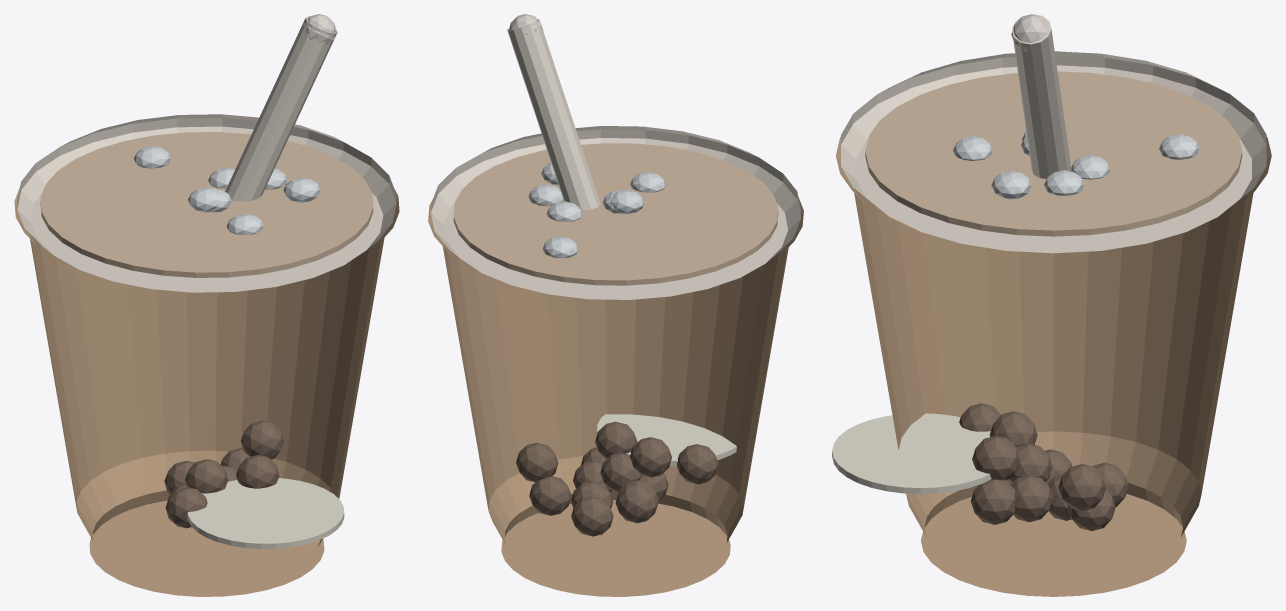
The model's file is tra_sua.glb.
3 renders of one model, left to right at view 1: azimuth 30°, elevation 25°; view 2: azimuth 150°, elevation 25°; view 3: azimuth 270°, elevation 25°, orthographic. The views are drawn at different scales.
Parts seen in each view (by area): view 1: obj_0000, obj_0001, obj_0002, obj_0003, obj_0004, obj_0015, obj_0019, obj_0016, obj_0013, obj_0009, obj_0012, obj_0010 (+3 smaller); view 2: obj_0000, obj_0001, obj_0002, obj_0004, obj_0003, obj_0024, obj_0013, obj_0016, obj_0014, obj_0020, obj_0015, obj_0019 (+8 smaller); view 3: obj_0000, obj_0001, obj_0002, obj_0003, obj_0004, obj_0015, obj_0018, obj_0019, obj_0022, obj_0016, obj_0023, obj_0014 (+9 smaller).
Part boxes in pixels (bbox=[...]): obj_0000: bbox=[14, 187, 399, 596]; obj_0001: bbox=[40, 132, 373, 277]; obj_0002: bbox=[17, 114, 396, 292]; obj_0003: bbox=[187, 478, 344, 548]; obj_0004: bbox=[225, 16, 337, 201]; obj_0015: bbox=[241, 420, 284, 459]; obj_0019: bbox=[236, 455, 279, 488]; obj_0016: bbox=[185, 459, 228, 493]; obj_0013: bbox=[165, 487, 207, 528]; obj_0009: bbox=[283, 177, 320, 202]; obj_0012: bbox=[134, 146, 170, 168]; obj_0010: bbox=[188, 187, 220, 212]; obj_0000: bbox=[428, 197, 803, 596]; obj_0001: bbox=[453, 143, 778, 285]; obj_0002: bbox=[431, 126, 800, 299]; obj_0004: bbox=[507, 19, 600, 210]; obj_0003: bbox=[597, 414, 736, 465]; obj_0024: bbox=[571, 496, 613, 536]; obj_0013: bbox=[677, 444, 718, 484]; obj_0016: bbox=[629, 437, 671, 477]; obj_0014: bbox=[529, 476, 571, 515]; obj_0020: bbox=[615, 484, 657, 523]; obj_0015: bbox=[516, 442, 558, 482]; obj_0019: bbox=[595, 421, 637, 459]; obj_0000: bbox=[836, 137, 1271, 596]; obj_0001: bbox=[865, 71, 1242, 236]; obj_0002: bbox=[841, 51, 1266, 253]; obj_0003: bbox=[832, 413, 991, 494]; obj_0004: bbox=[1012, 14, 1071, 178]; obj_0015: bbox=[1058, 464, 1105, 511]; obj_0018: bbox=[970, 479, 1015, 524]; obj_0019: bbox=[972, 435, 1019, 480]; obj_0022: bbox=[1011, 475, 1053, 522]; obj_0016: bbox=[990, 411, 1037, 446]; obj_0023: bbox=[1009, 443, 1052, 482]; obj_0014: bbox=[1067, 489, 1115, 531].
Size of the model in its own units: 1.18 by 1.73 by 1.19.
